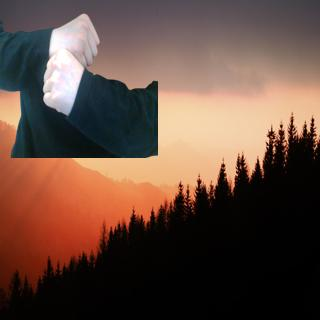CAREFUL: (39, 10, 102, 116)
